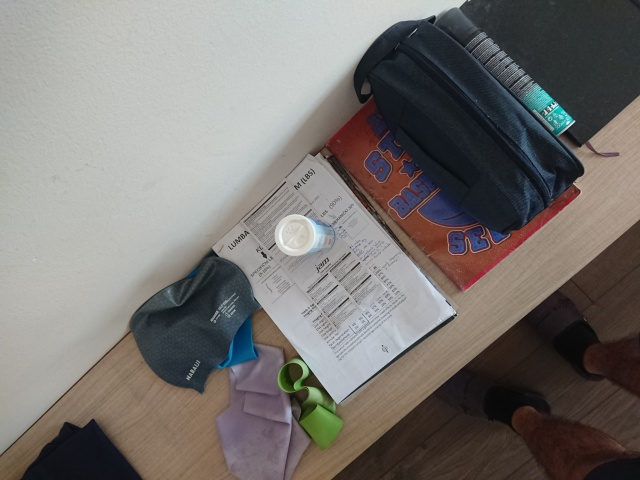Solana Pag Fine Sea Salt 250g: (272, 212, 338, 258)
